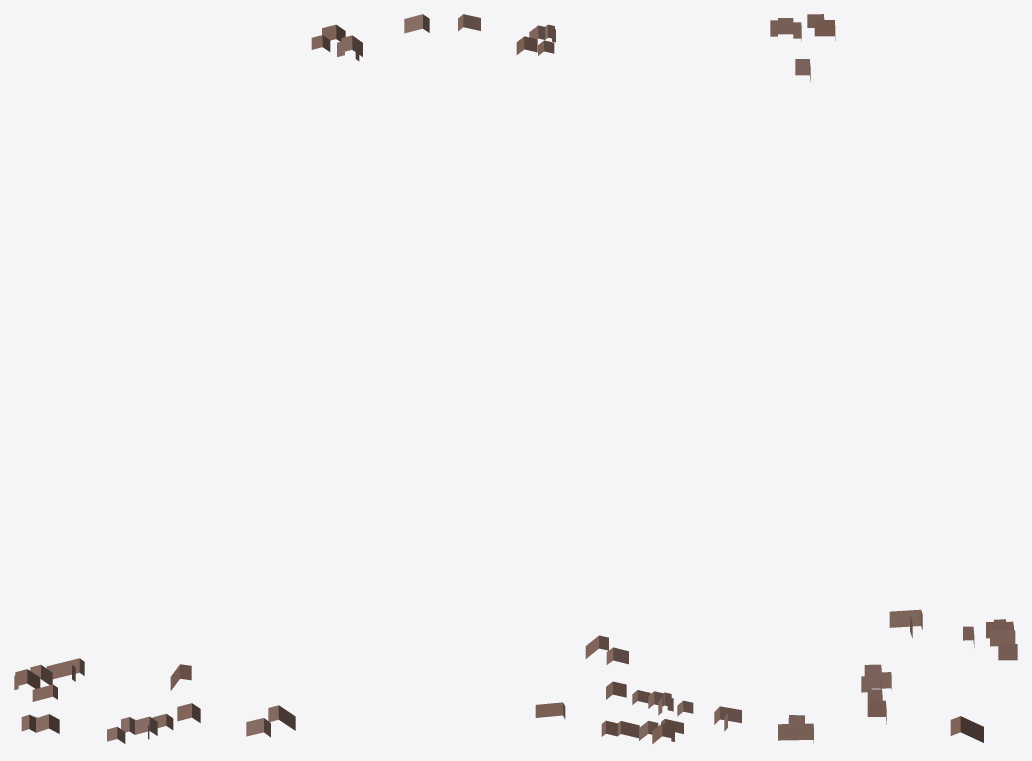
File: c_1638_17821_buildings_residential.glb
3 views of the same model, side by side, from view 1: azimuth 30°, elevation 25°; view 2: azimuth 150°, elevation 25°; view 3: azimuth 270°, elevation 25° (orthographic). The views are drawn at different scales.
Parts seen in each view (by area): view 1: geometry_0; view 2: geometry_0; view 3: geometry_0.
Part boxes in pixels (left/top/right/bottom): geometry_0: left=14, top=14, right=429, bottom=743; geometry_0: left=458, top=14, right=741, bottom=743; geometry_0: left=770, top=14, right=1017, bottom=742.
Bounding box in the file's own units: 242 × 446 × 131.
